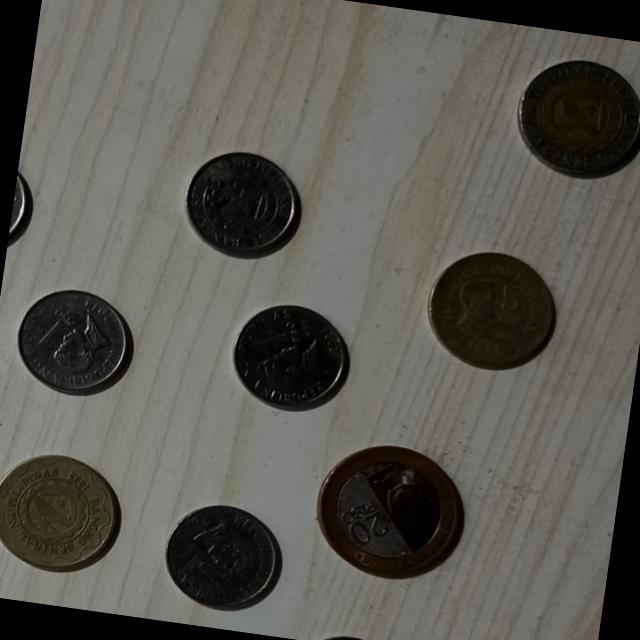10_peso: (517, 61, 640, 177)
1_peso: (185, 152, 301, 257), (233, 305, 347, 410), (165, 505, 280, 609), (18, 290, 128, 392)
20_peso: (317, 446, 463, 578), (428, 252, 555, 369), (0, 456, 117, 570)
